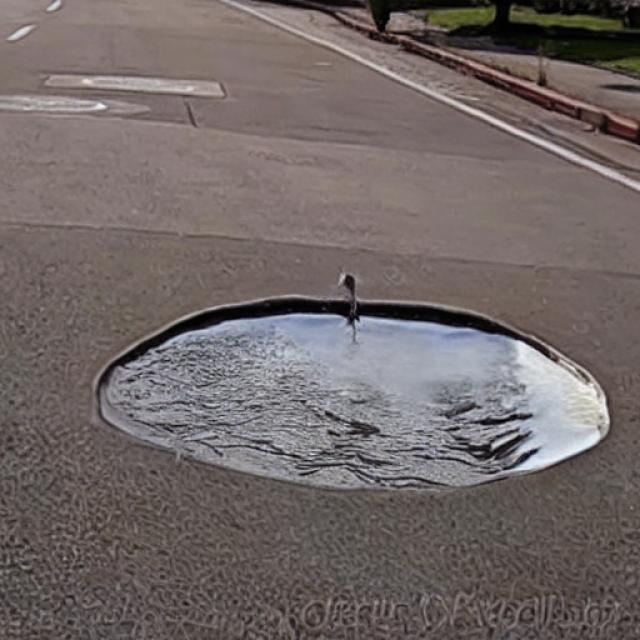puddle: (97, 295, 612, 489)
